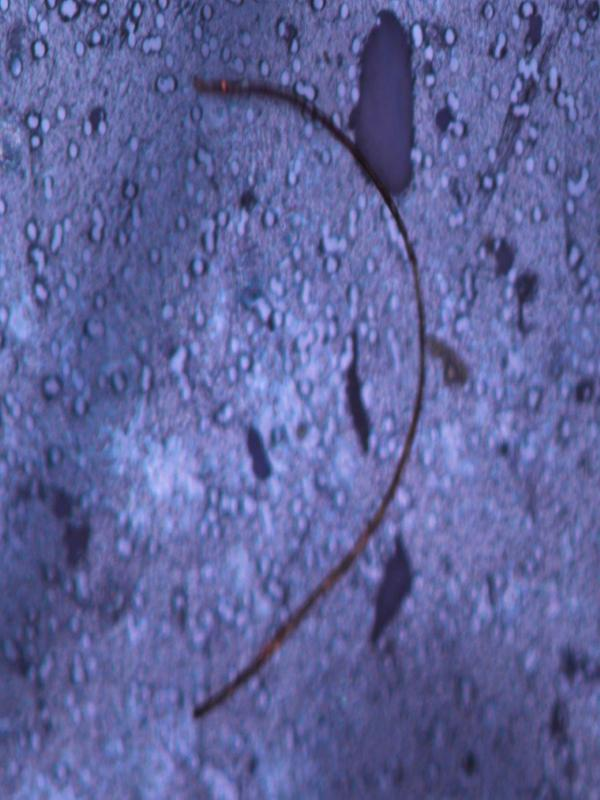microplastic: (1, 2, 598, 797), (186, 65, 426, 720)
